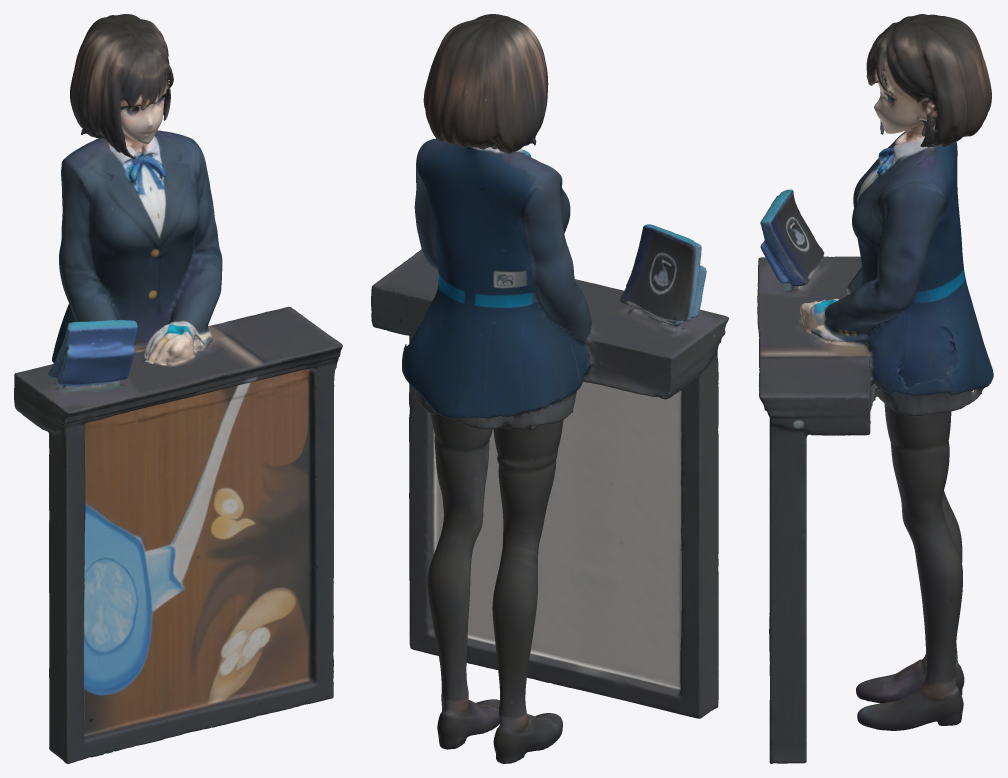
Rendered from Meshy_AI_Poised_at_the_Desk_0524082350_texture.glb.
3 views of the same model, side by side, from view 1: azimuth 30°, elevation 25°; view 2: azimuth 150°, elevation 25°; view 3: azimuth 270°, elevation 25° (orthographic). The views are drawn at different scales.
Size of the model in its own units: 0.874 by 2 by 0.6215.
Materials: 1 (1 with a texture image).
